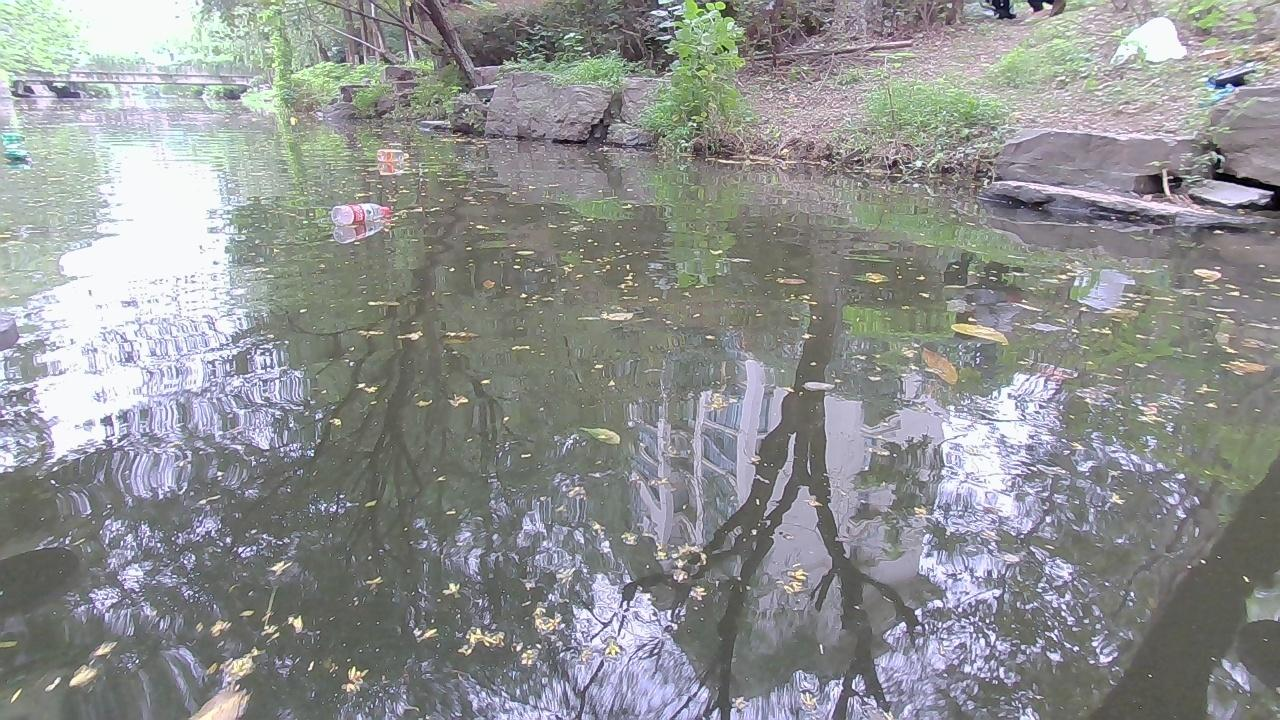bottle: (328, 200, 395, 224), (376, 146, 412, 161), (3, 146, 29, 165), (0, 127, 25, 140), (287, 116, 296, 123)
